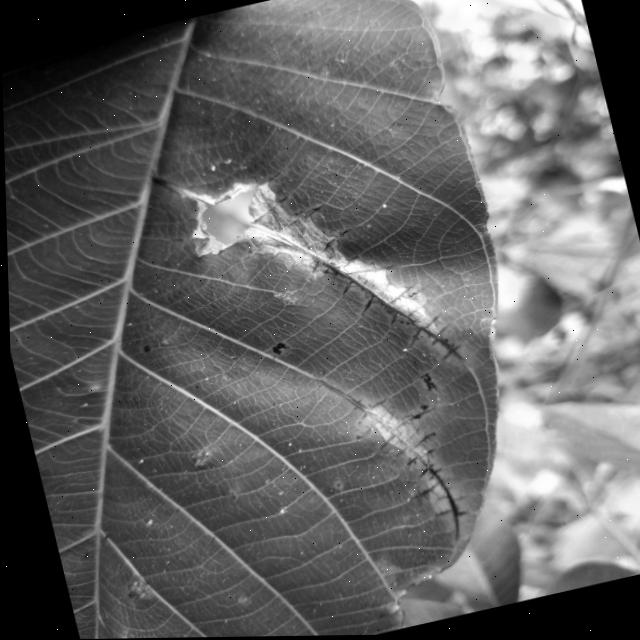Corynespora: (147, 117, 464, 419), (312, 351, 473, 563)
Leaf-Blight: (549, 0, 599, 83)
